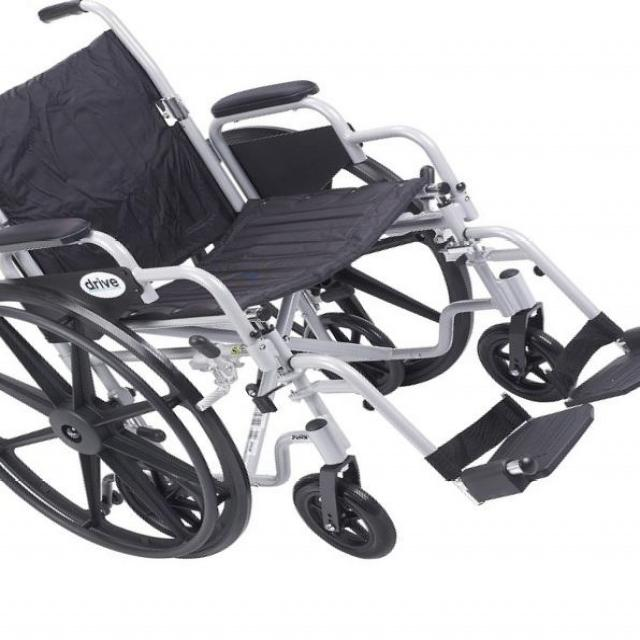wheelchair: (2, 2, 640, 576)
